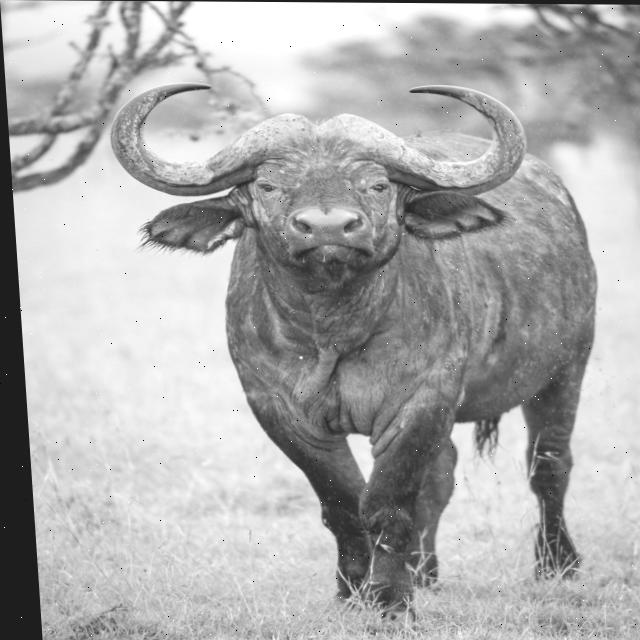Buffalo: (105, 81, 627, 624)
